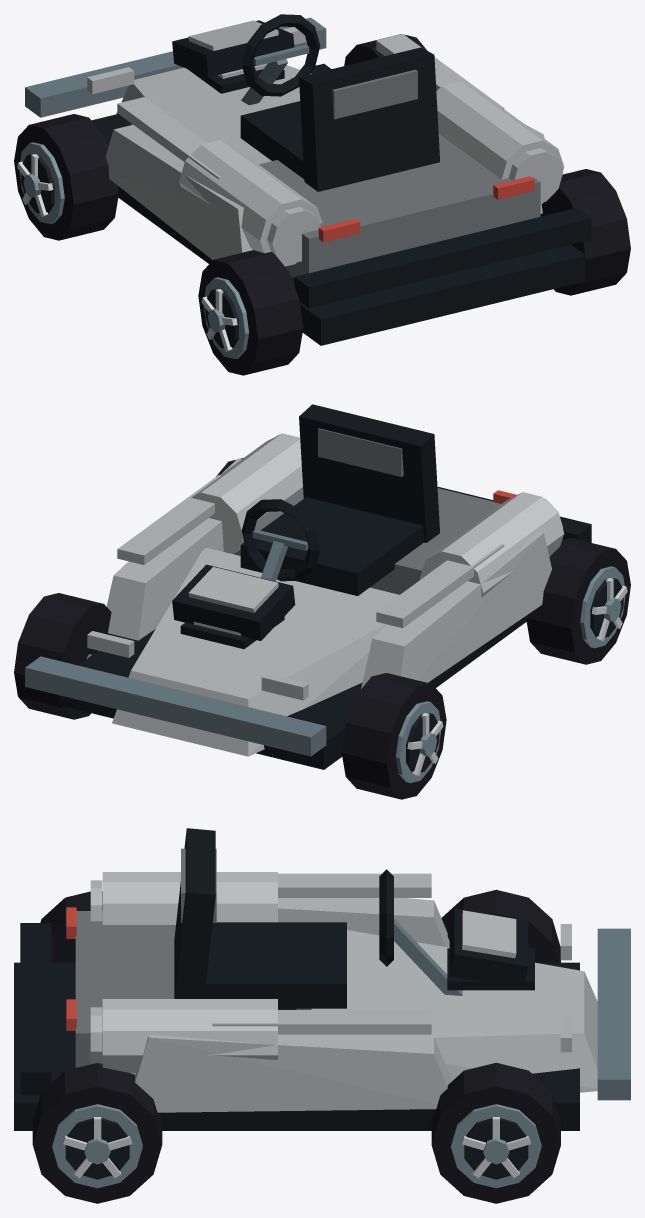
File: kart.glb
3 views of the same model, one above another, from view 1: azimuth 30°, elevation 25°; view 2: azimuth 150°, elevation 25°; view 3: azimuth 270°, elevation 25° (orthographic). The views are drawn at different scales.
Visible parts, largest first — view 1: chassis, wheel-rear-left, wheel-front-left, wheel-rear-right, wheel-front-right; view 2: chassis, wheel-front-left, wheel-rear-left, wheel-front-right; view 3: chassis, wheel-front-right, wheel-rear-right, wheel-front-left, wheel-rear-left.
Boxes of the visible parts, left/top/right/bottom form: chassis: left=25, top=14, right=591, bottom=345; wheel-rear-left: left=198, top=250, right=303, bottom=375; wheel-front-left: left=14, top=114, right=118, bottom=240; wheel-rear-right: left=540, top=169, right=630, bottom=295; wheel-front-right: left=344, top=34, right=427, bottom=65; chassis: left=25, top=404, right=591, bottom=769; wheel-front-left: left=341, top=673, right=446, bottom=799; wheel-rear-left: left=526, top=538, right=630, bottom=664; wheel-front-right: left=14, top=593, right=117, bottom=719; chassis: left=14, top=828, right=630, bottom=1130; wheel-front-right: left=431, top=1062, right=560, bottom=1203; wheel-rear-right: left=32, top=1063, right=162, bottom=1203; wheel-front-left: left=441, top=889, right=560, bottom=962; wheel-rear-left: left=40, top=891, right=102, bottom=962.
Size of the model in its own units: 2.4 by 1.3 by 2.96.
